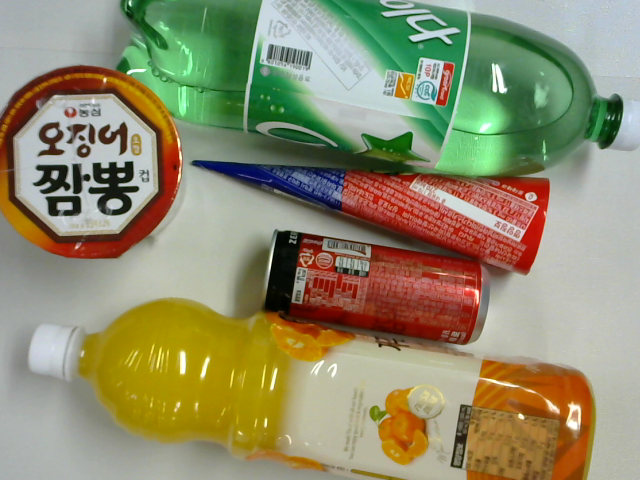Chilseong_Cider_1.5L: (118, 2, 640, 171)
Coca_Cola_Zero_Can_250ml: (257, 227, 499, 346)
Jeju_Tangerine_1.5L: (24, 290, 597, 480)
Ojjam: (1, 64, 182, 261)
World_Cone_Banila: (191, 143, 550, 277)
